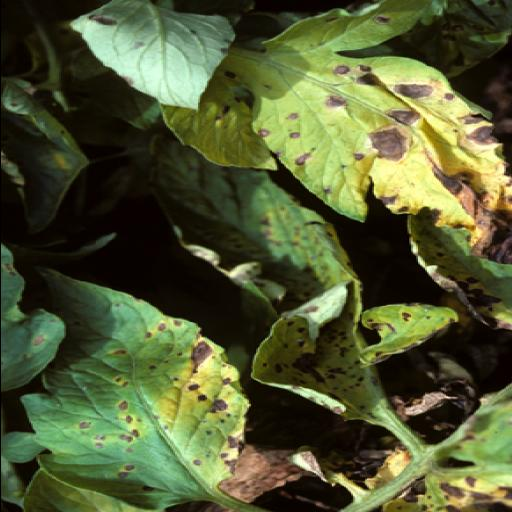Septoria: (146, 128, 460, 422), (221, 0, 512, 259), (24, 270, 254, 508)
